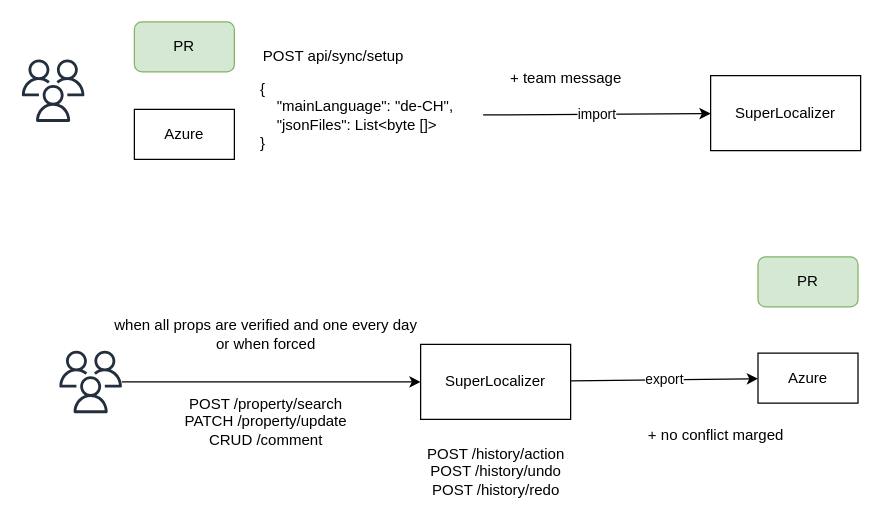
The diagram is 883 pixels wide and 531 high, and some of its shapes have lost their labels. Each missing label, with the box of its shape:
dev team: (21, 59, 84, 121)
language team: (59, 350, 121, 412)
